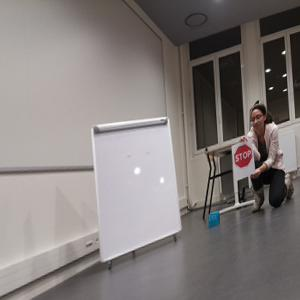stop: (235, 145, 252, 167)
